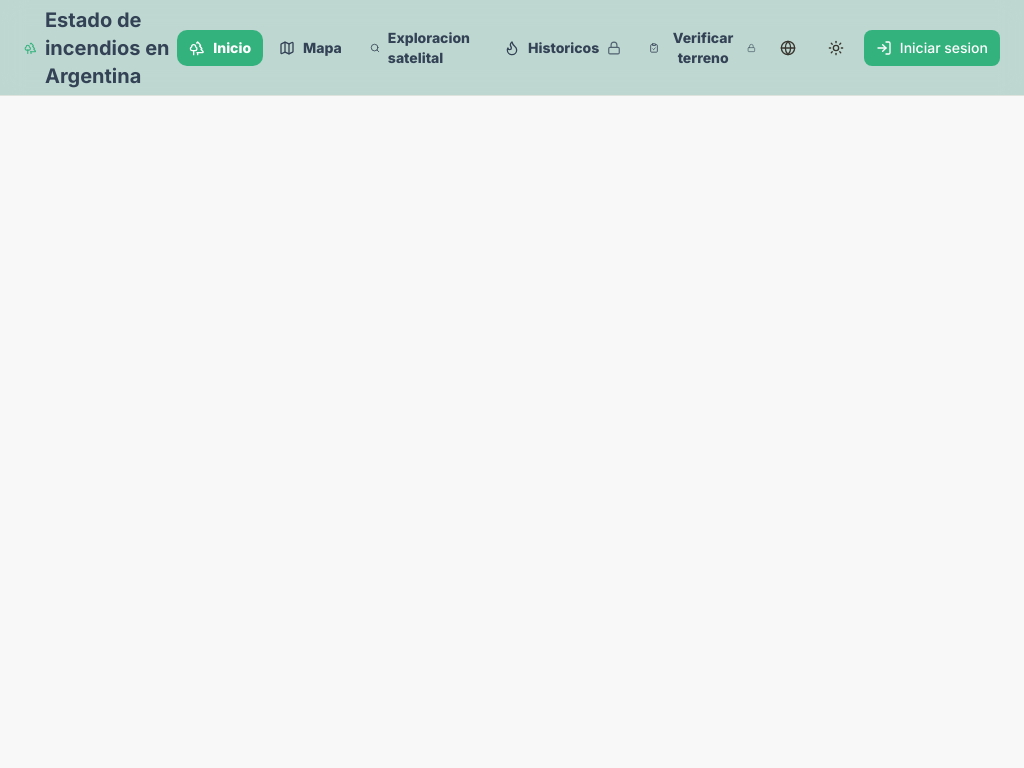
Test: Navbar locked previews › shows restricted modal for locked items and routes actions correctly
Later steps or results of the test are not shown.
Step 1. Click the button with aria-label "Verificar terreno - requiere inicio de sesion" → (702, 48), box [637,20,768,76]
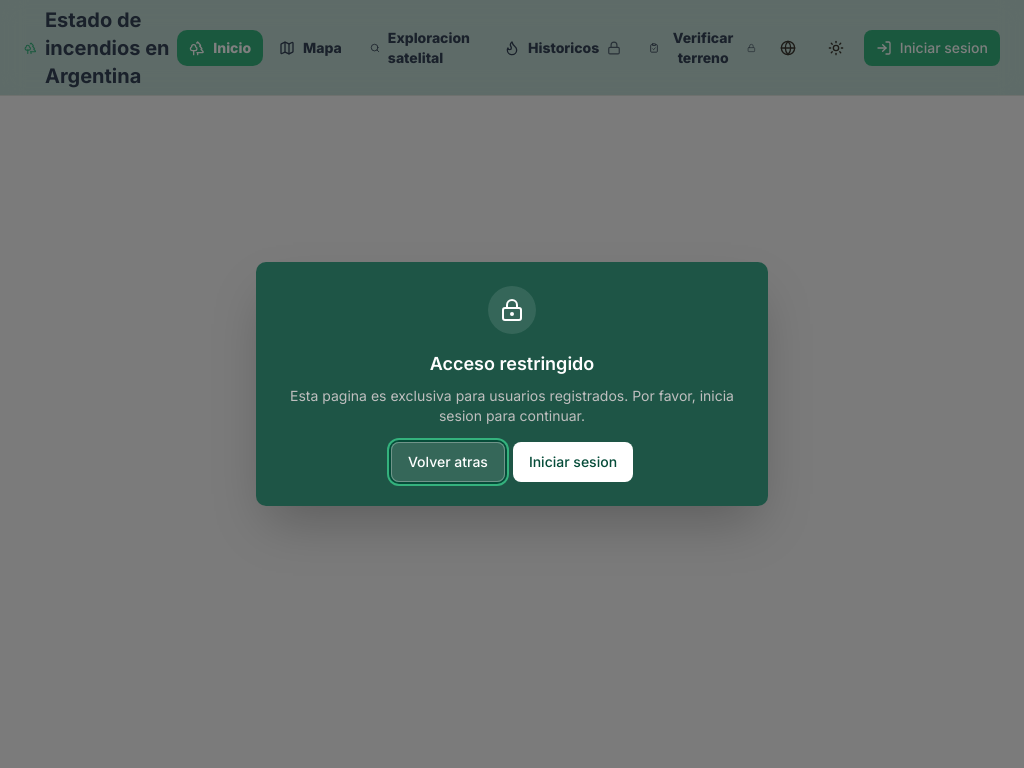
Expected: the heading "Acceso restringido" is shown, [430,353,594,374]
Step 2. Click the button "Volver atras" → (448, 462), box [391,442,505,482]
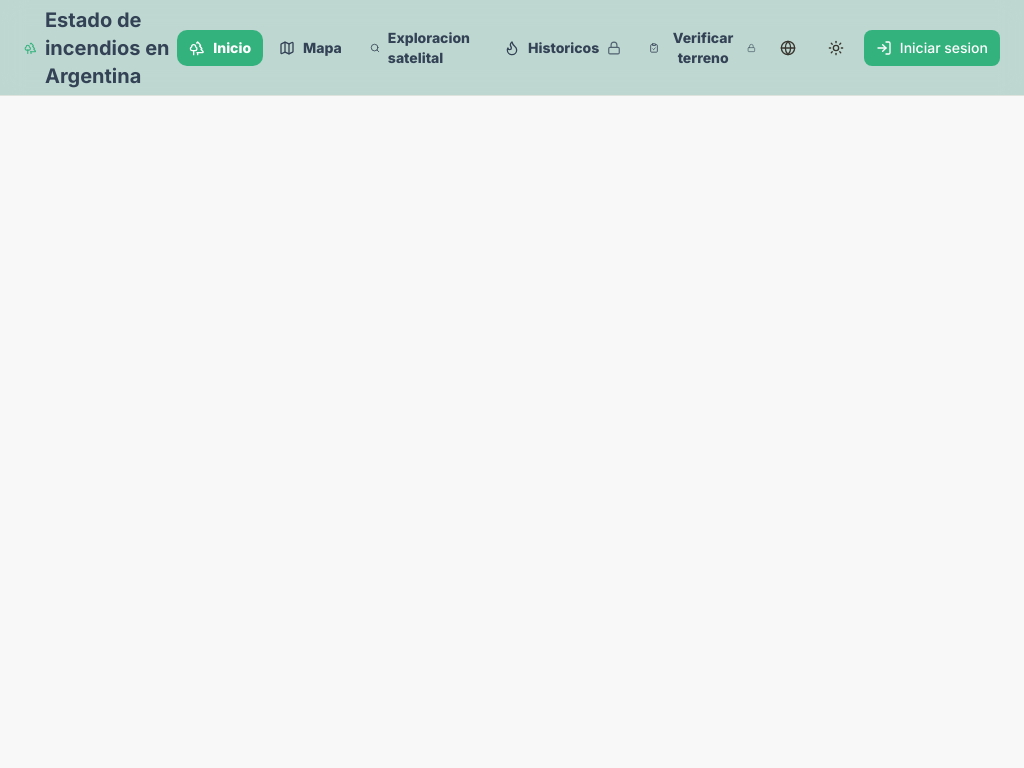
Expected: the heading "Acceso restringido" is gone
